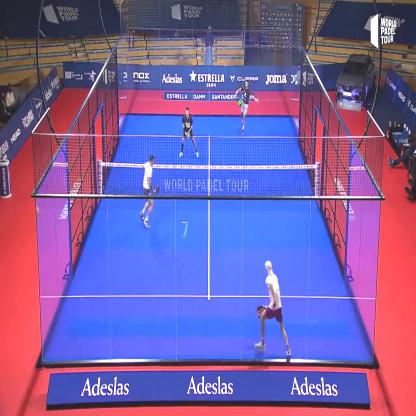ball: (182, 222, 188, 239)
